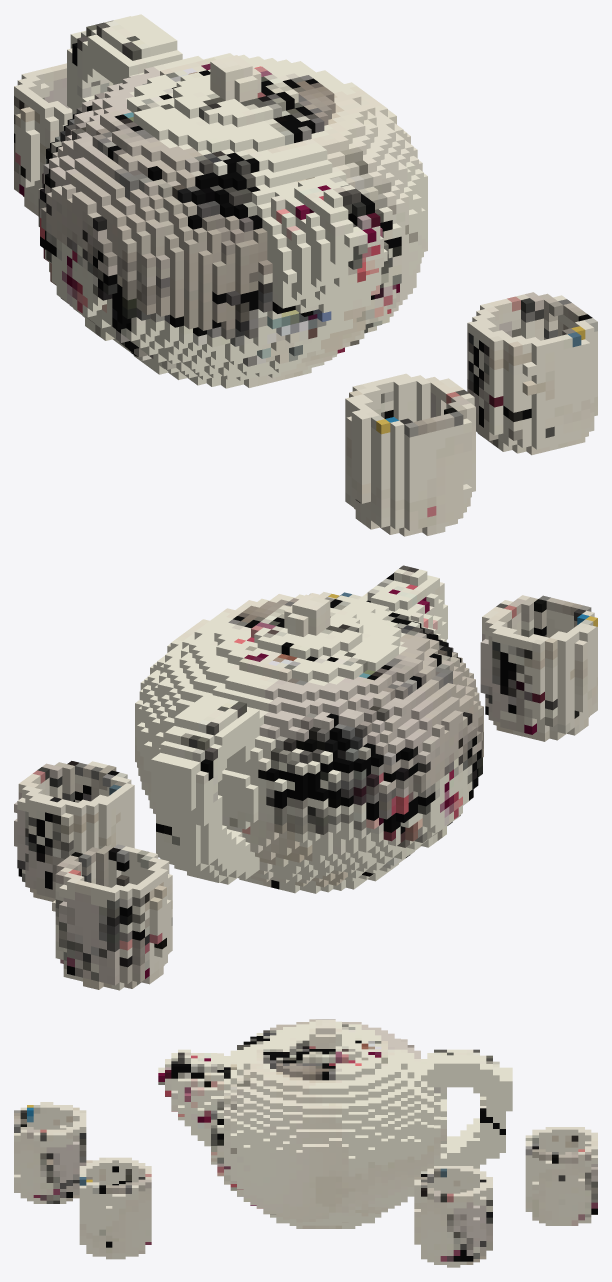
Rendered from Teapod.obj.
3 views of the same model, one above another, from view 1: azimuth 30°, elevation 25°; view 2: azimuth 150°, elevation 25°; view 3: azimuth 270°, elevation 25° (orthographic). The views are drawn at different scales.
Parts seen in each view (by area): view 1: teapot_41x30x89; view 2: teapot_41x30x89; view 3: teapot_41x30x89.
Boxes of the visible parts, bbox=[...] form: teapot_41x30x89: bbox=[14, 14, 597, 536]; teapot_41x30x89: bbox=[14, 565, 597, 990]; teapot_41x30x89: bbox=[14, 1019, 597, 1267].
Bounding box in the file's own units: 0.6301 × 0.461 × 1.37.
